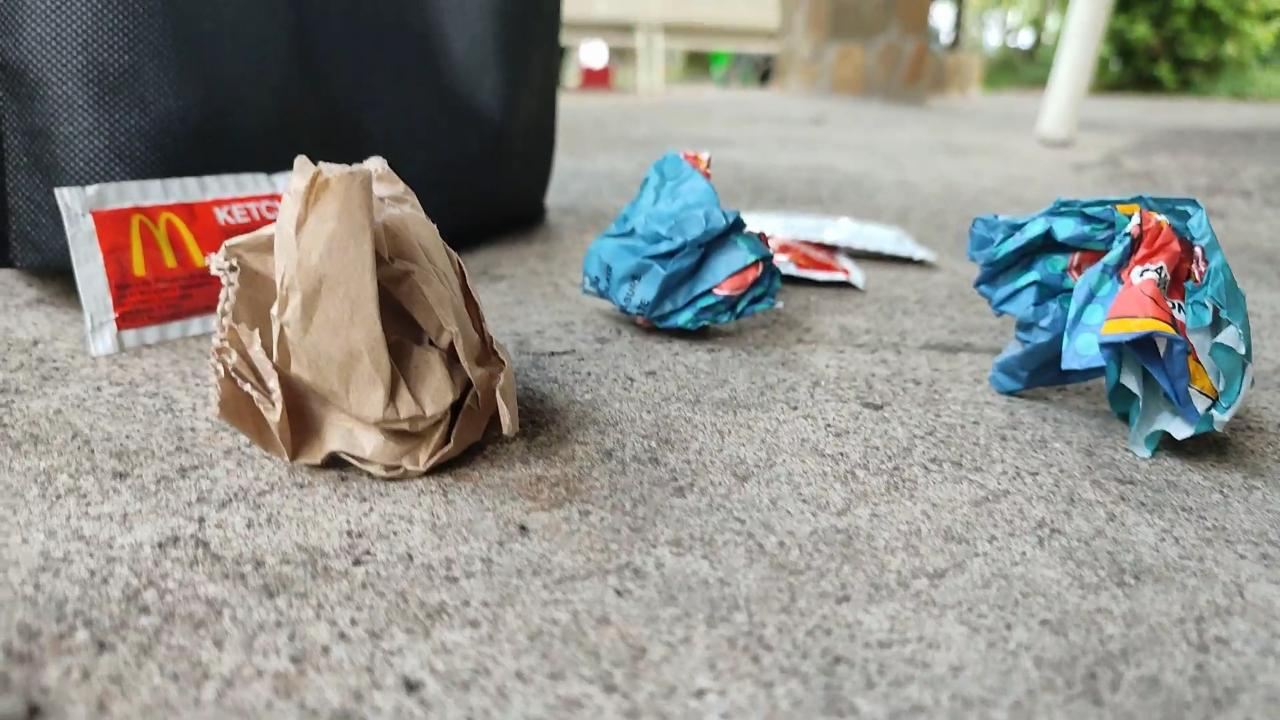Paper: (197, 135, 534, 490), (944, 172, 1269, 479), (579, 127, 786, 371)
